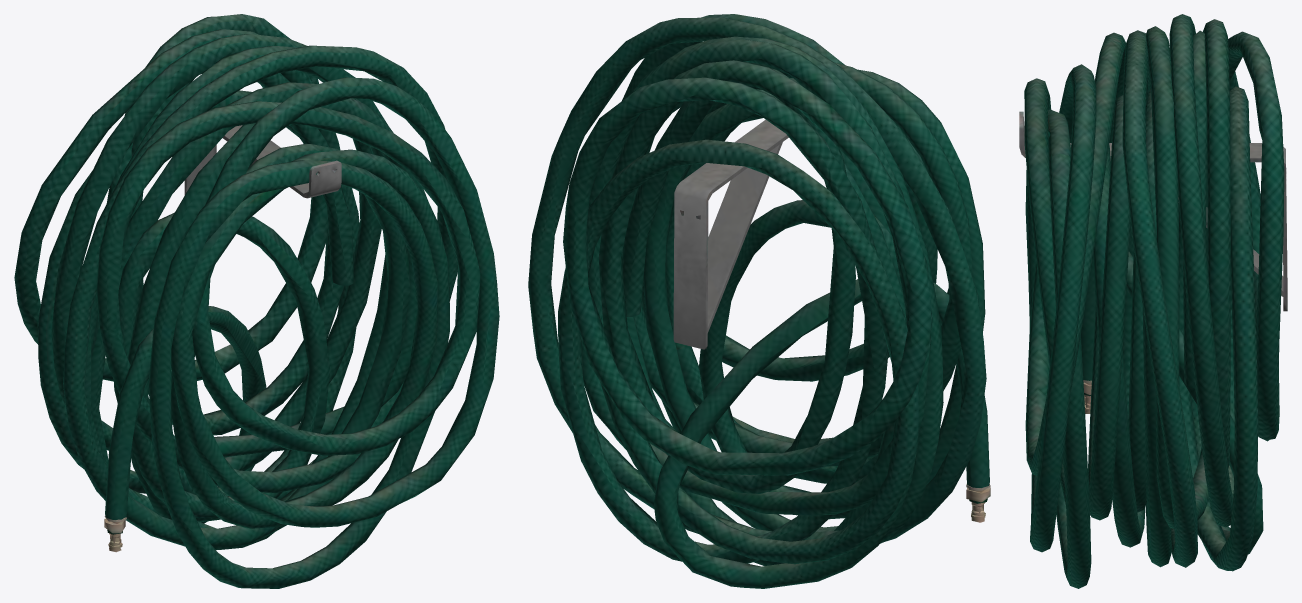
File: garden_hose_wall_mounted_01.glb
3 views of the same model, side by side, from view 1: azimuth 30°, elevation 25°; view 2: azimuth 150°, elevation 25°; view 3: azimuth 270°, elevation 25° (orthographic). The views are drawn at different scales.
Visible parts, largest first — view 1: garden_hose, garden_hose_wall_bracket; view 2: garden_hose, garden_hose_wall_bracket; view 3: garden_hose, garden_hose_wall_bracket.
Part boxes in pixels (<box>): garden_hose: <box>14,14,499,588</box>; garden_hose_wall_bracket: <box>184,125,341,198</box>; garden_hose: <box>528,14,990,588</box>; garden_hose_wall_bracket: <box>673,119,788,349</box>; garden_hose: <box>1024,14,1284,588</box>; garden_hose_wall_bracket: <box>1019,111,1287,311</box>.
Size of the model in its own units: 0.4658 by 0.557 by 0.2503.
Materials: 1 (1 with a texture image).
